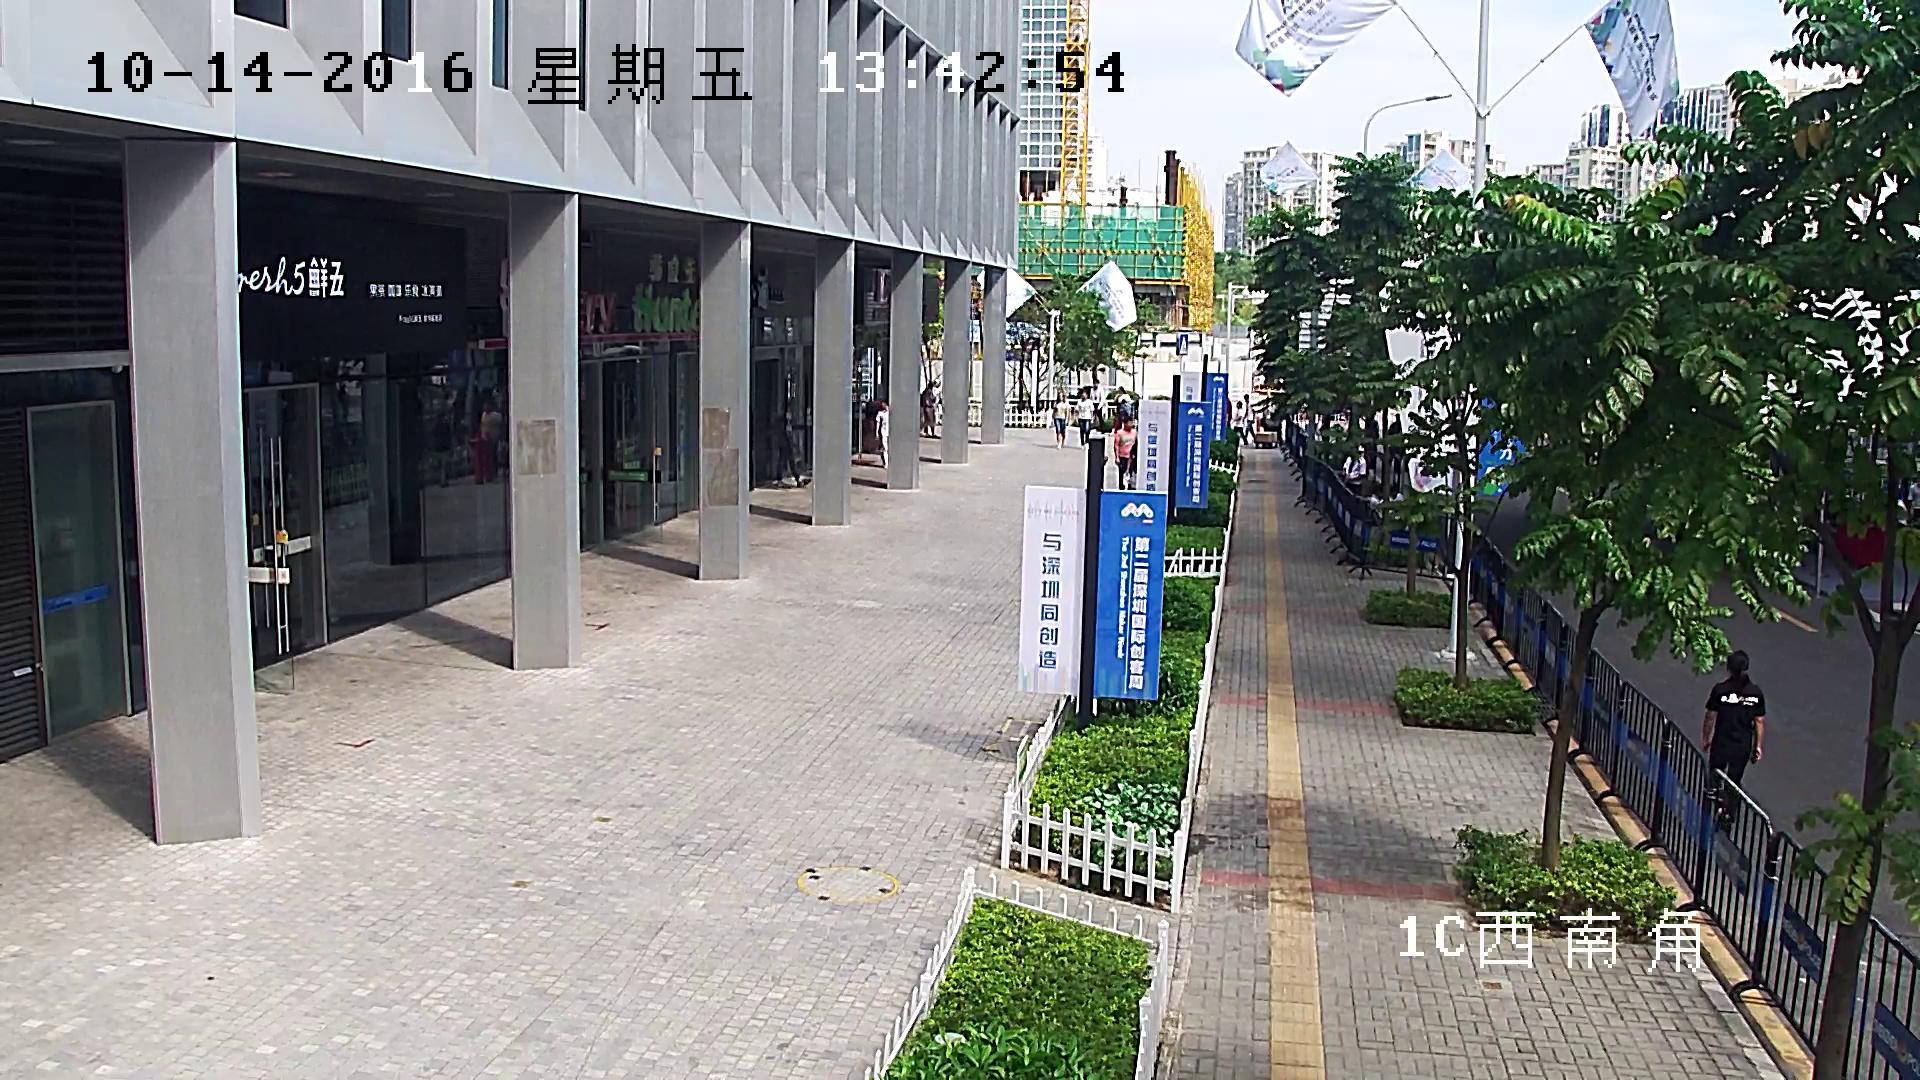person: (1702, 650, 1765, 821), (777, 414, 807, 488), (480, 400, 503, 478), (1113, 416, 1136, 490), (430, 411, 452, 486), (1074, 390, 1094, 448), (874, 400, 890, 469), (919, 381, 938, 437), (1388, 412, 1405, 474), (1052, 392, 1067, 448), (1113, 387, 1131, 427), (1232, 401, 1247, 444), (1242, 393, 1255, 443)
